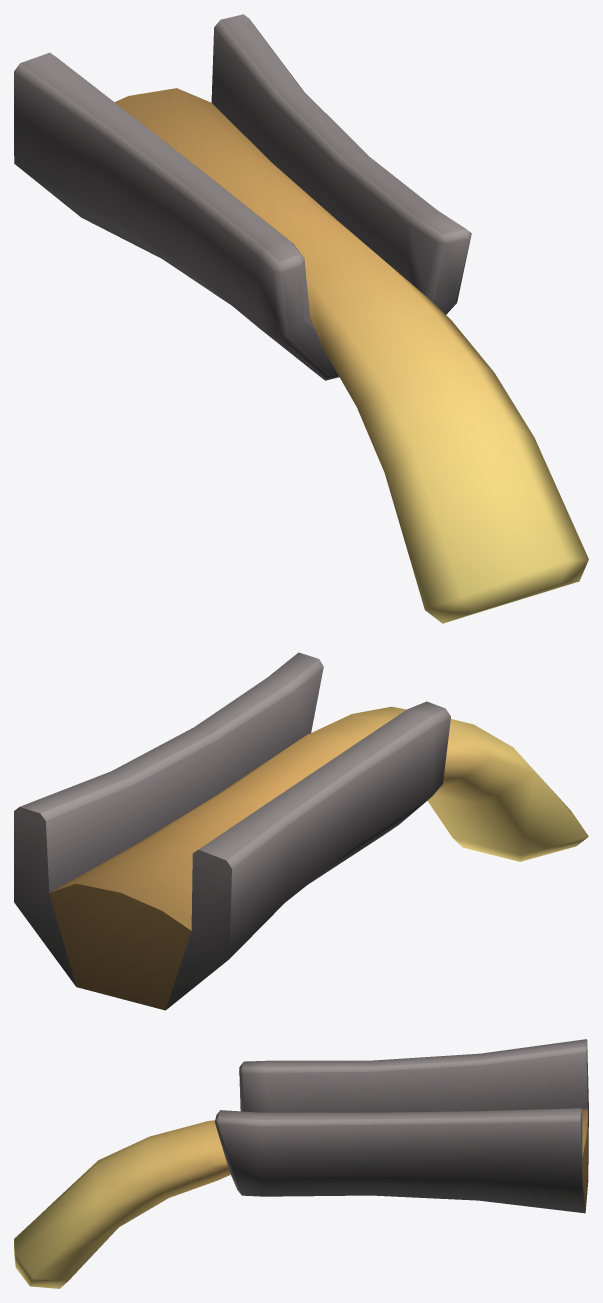
The model's file is elf_sap_tap.fbx.
3 renders of one model, top to bottom at view 1: azimuth 30°, elevation 25°; view 2: azimuth 150°, elevation 25°; view 3: azimuth 270°, elevation 25°, orthographic. The views are drawn at different scales.
Visible parts, largest first — view 1: elf_sap_tap; view 2: elf_sap_tap; view 3: elf_sap_tap.
Boxes of the visible parts, x1,y1,x2,y2 form: elf_sap_tap: (14,14,588,623); elf_sap_tap: (14,652,588,1010); elf_sap_tap: (14,1039,588,1288).
Bounding box in the file's own units: 76.46 × 93.74 × 234.
